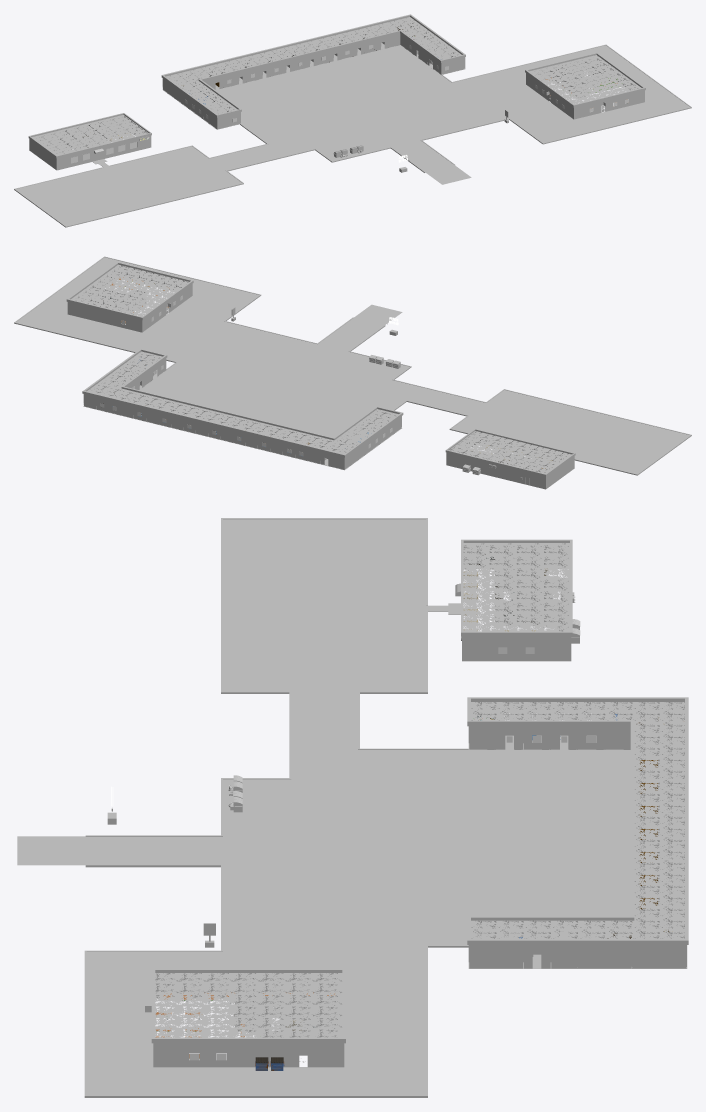
File: MotelElMar.fbx
3 views of the same model, one above another, from view 1: azimuth 30°, elevation 25°; view 2: azimuth 150°, elevation 25°; view 3: azimuth 270°, elevation 25° (orthographic). The views are drawn at different scales.
Parts seen in each view (by area): view 1: Parking.005, MotelRoof, Motel.070, BergerRoof5.002, CoffeLiteRoof, BurgerSuper, CoffeLite, Bordur.013, Bordur.009, MotelFloor; view 2: Parking.005, MotelRoof, Motel.070, BergerRoof5.002, CoffeLiteRoof, CoffeLite, BurgerSuper, Bordur.013, Bordur.009, MotelFloor; view 3: Parking.005, MotelRoof, BergerRoof5.002, Motel.070, CoffeLiteRoof, BurgerSuper, CoffeLite, Bordur.009, Bordur.013.
Boxes of the visible parts, <box> form: Parking.005: <box>16,45,689,225</box>; MotelRoof: <box>161,14,465,117</box>; Motel.070: <box>162,18,465,129</box>; BergerRoof5.002: <box>525,52,645,107</box>; CoffeLiteRoof: <box>28,113,151,158</box>; BurgerSuper: <box>526,58,644,119</box>; CoffeLite: <box>29,116,151,170</box>; Bordur.013: <box>14,123,425,227</box>; Bordur.009: <box>420,44,691,164</box>; MotelFloor: <box>162,40,464,129</box>; Parking.005: <box>16,257,689,473</box>; MotelRoof: <box>82,349,403,457</box>; Motel.070: <box>83,354,401,469</box>; BergerRoof5.002: <box>66,262,193,319</box>; CoffeLiteRoof: <box>445,429,575,476</box>; CoffeLite: <box>446,432,574,489</box>; BurgerSuper: <box>67,266,192,332</box>; Bordur.013: <box>348,325,691,475</box>; Bordur.009: <box>14,256,353,369</box>; MotelFloor: <box>83,370,401,470</box>; Parking.005: <box>17,519,630,1095</box>; MotelRoof: <box>467,697,688,944</box>; BergerRoof5.002: <box>151,968,345,1043</box>; Motel.070: <box>468,703,686,968</box>; CoffeLiteRoof: <box>461,539,572,636</box>; BurgerSuper: <box>153,974,344,1067</box>; CoffeLite: <box>455,544,575,660</box>; Bordur.009: <box>84,864,468,1097</box>; Bordur.013: <box>85,518,468,836</box>.
Bounding box in the file's own units: 20034 × 575 × 9838.
